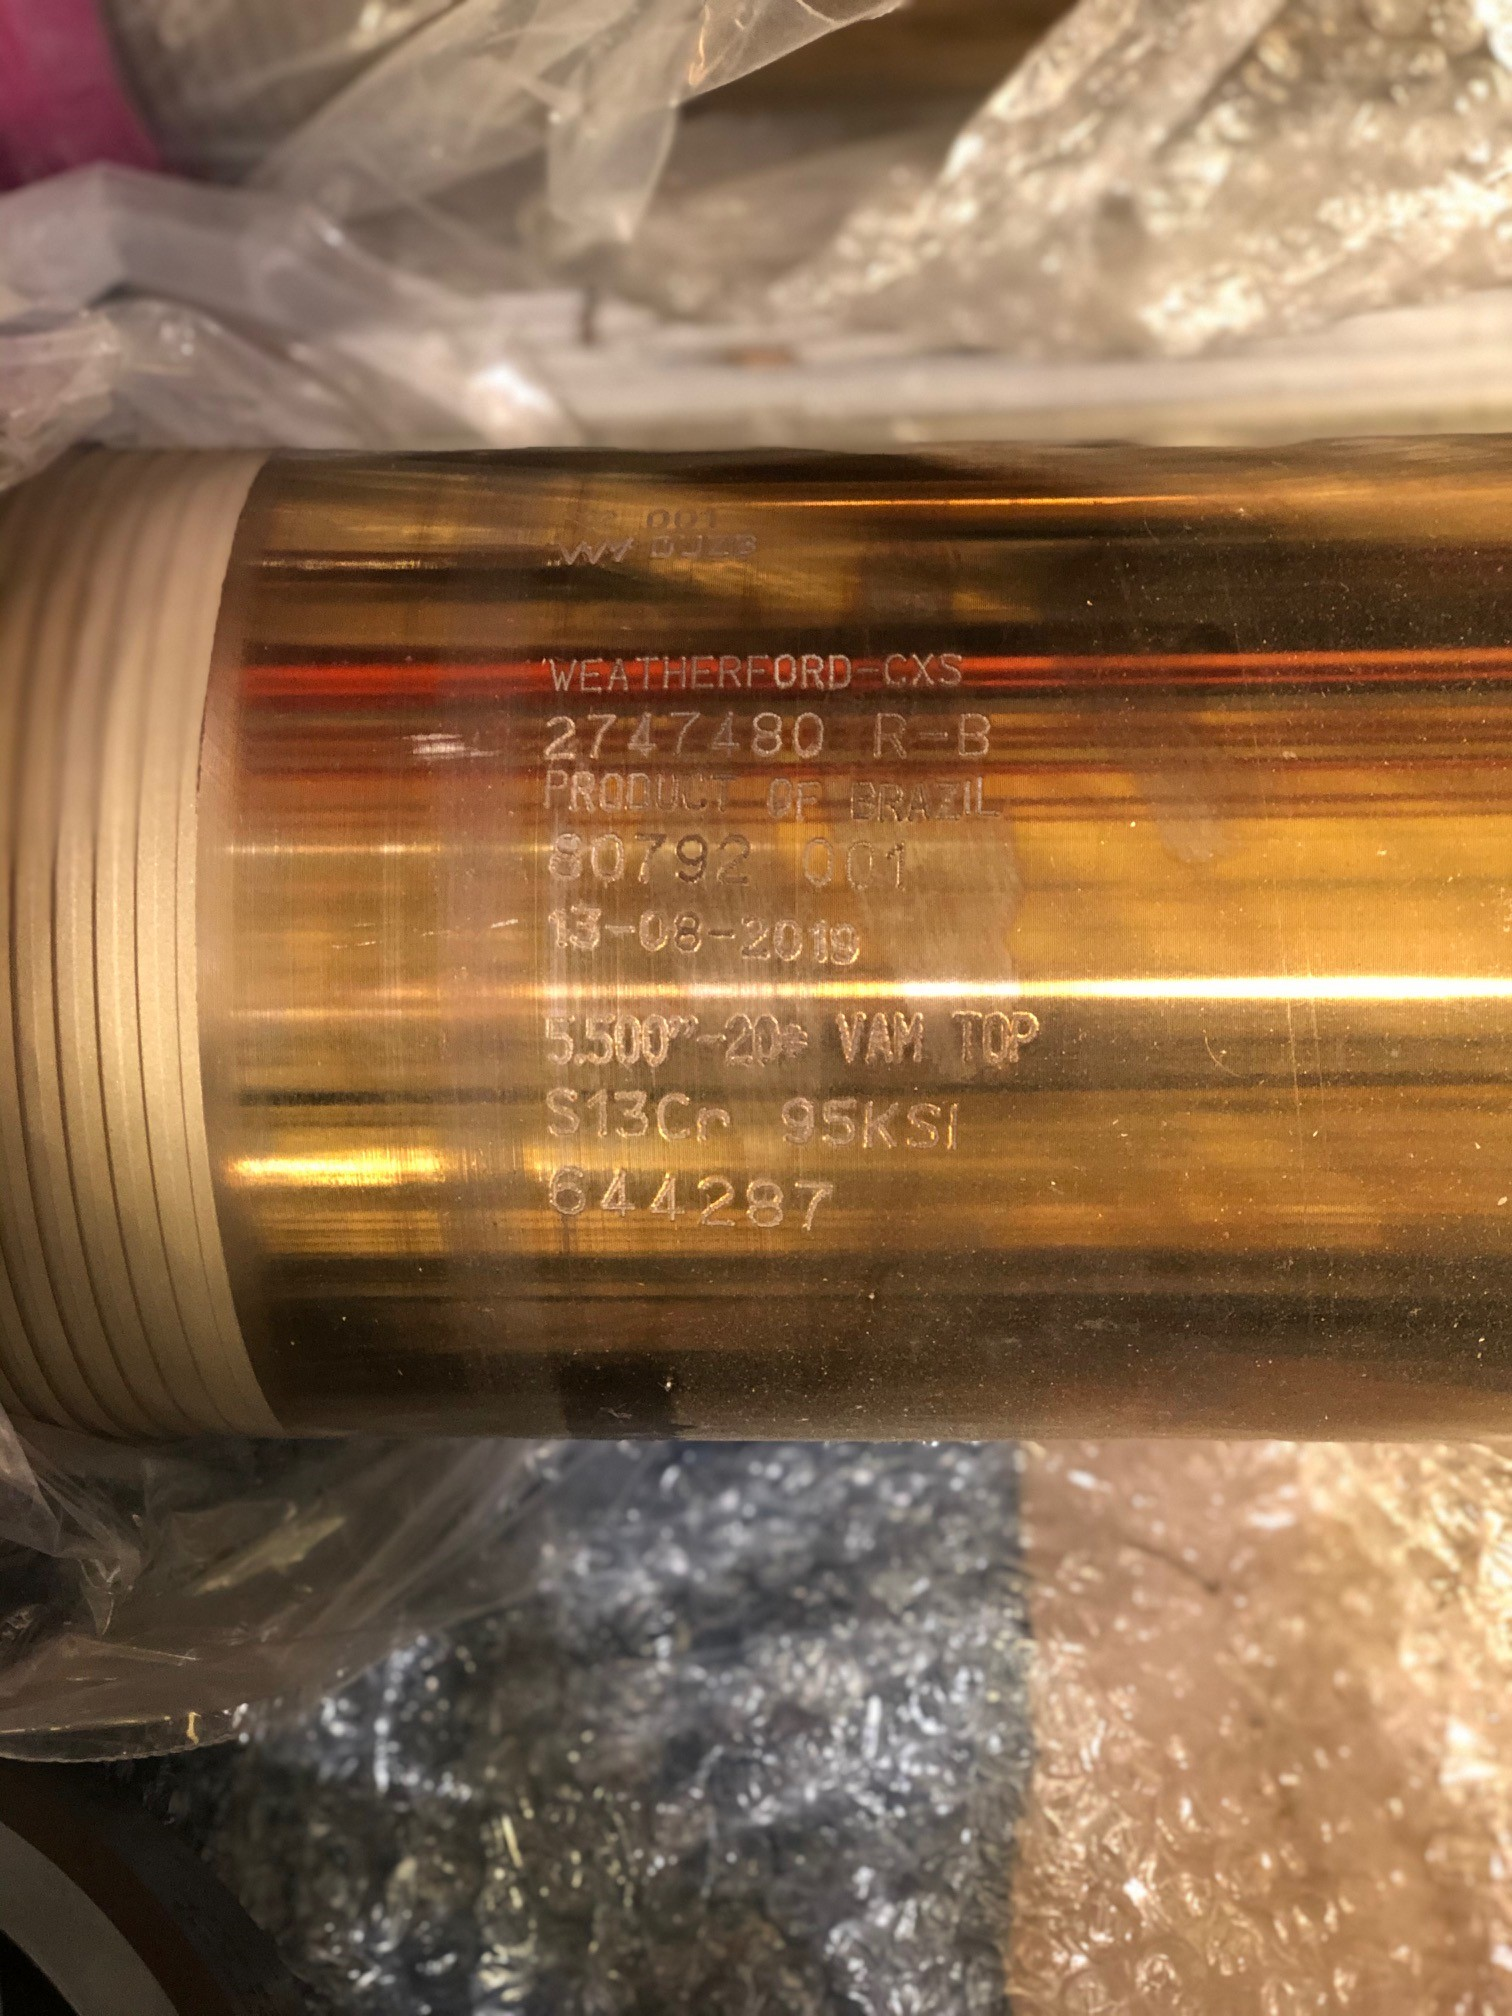character: (689, 1164, 743, 1229), (788, 1172, 839, 1235), (592, 1160, 643, 1222), (643, 1160, 689, 1229), (743, 1165, 788, 1235), (950, 702, 999, 764), (546, 1160, 592, 1224), (837, 832, 881, 894), (712, 829, 754, 891), (901, 1094, 943, 1156), (664, 829, 712, 884), (859, 1091, 904, 1149), (869, 705, 915, 760), (627, 829, 669, 891), (816, 1091, 859, 1149), (654, 1086, 696, 1146), (793, 832, 837, 887), (743, 706, 786, 764), (702, 705, 743, 764), (881, 830, 920, 894), (542, 1083, 584, 1138), (786, 706, 827, 764), (827, 1006, 869, 1064), (1009, 1006, 1047, 1068), (611, 1083, 651, 1141), (538, 711, 583, 764), (583, 710, 626, 764), (661, 705, 702, 760), (548, 827, 589, 883), (840, 773, 881, 827), (913, 706, 953, 762), (538, 1010, 578, 1065), (578, 1008, 616, 1065), (777, 1091, 816, 1145), (750, 1008, 783, 1071), (589, 829, 627, 883), (889, 1008, 928, 1062), (694, 1092, 732, 1146), (978, 1010, 1013, 1068), (737, 905, 772, 962), (931, 648, 972, 695), (694, 1011, 727, 1070), (972, 767, 1007, 822), (623, 710, 661, 760), (611, 1010, 643, 1070), (669, 906, 704, 960), (950, 1006, 985, 1060), (723, 1006, 753, 1068), (638, 1010, 670, 1068), (704, 905, 737, 960), (772, 910, 807, 962), (761, 771, 797, 821), (866, 1005, 894, 1067), (778, 1013, 808, 1070), (570, 902, 602, 956), (602, 903, 638, 949), (635, 903, 670, 951), (928, 779, 961, 829), (804, 910, 832, 967), (877, 773, 907, 827), (831, 913, 861, 967), (584, 1086, 615, 1140), (545, 652, 581, 695), (943, 1086, 966, 1156), (794, 771, 823, 824), (542, 906, 572, 956), (565, 768, 599, 813), (577, 649, 608, 694), (624, 767, 651, 818), (850, 649, 881, 692), (651, 767, 680, 813), (742, 649, 773, 691), (599, 768, 626, 816), (905, 779, 932, 827), (715, 651, 743, 695), (710, 771, 739, 816), (680, 771, 710, 813), (542, 765, 569, 811), (689, 651, 716, 695), (634, 654, 662, 695), (661, 654, 689, 695), (880, 649, 908, 691), (908, 648, 935, 691), (608, 656, 634, 698), (824, 649, 850, 692), (797, 651, 824, 691), (958, 765, 974, 827), (772, 652, 797, 691)
